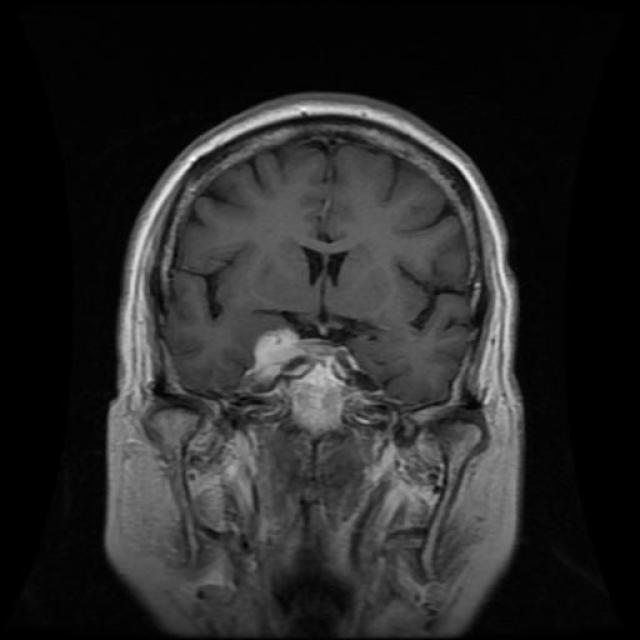meningioma: (255, 329, 304, 374)
